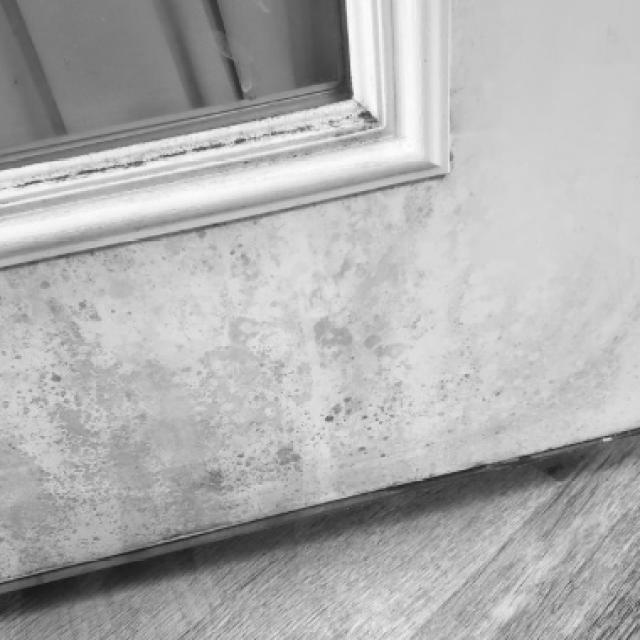stain marks: (0, 165, 637, 586)
